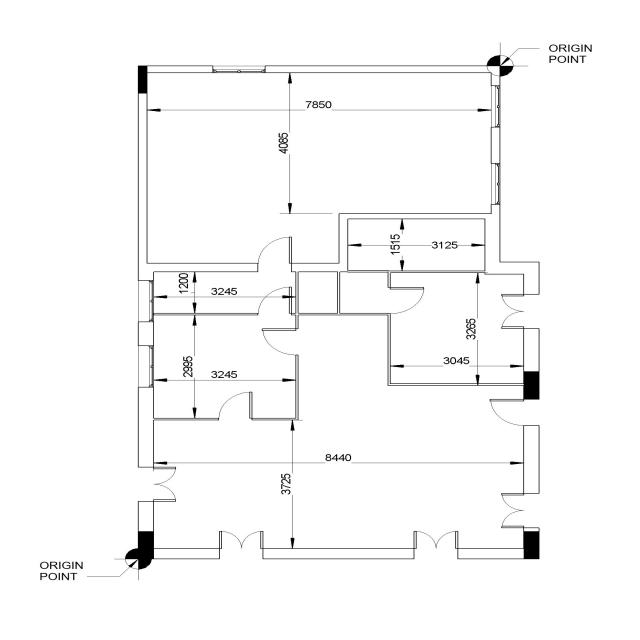Column: (523, 531, 540, 560), (138, 531, 154, 560), (524, 372, 540, 399), (138, 64, 147, 94)
Door: (246, 232, 298, 269), (488, 398, 542, 428), (210, 388, 254, 424), (253, 323, 296, 359), (387, 282, 435, 314), (245, 283, 294, 314)
Double-Door: (498, 288, 543, 336), (209, 526, 276, 558), (407, 527, 464, 563), (498, 490, 542, 530), (147, 461, 178, 505)
Window: (206, 61, 278, 82), (136, 342, 157, 388), (136, 277, 157, 322)
